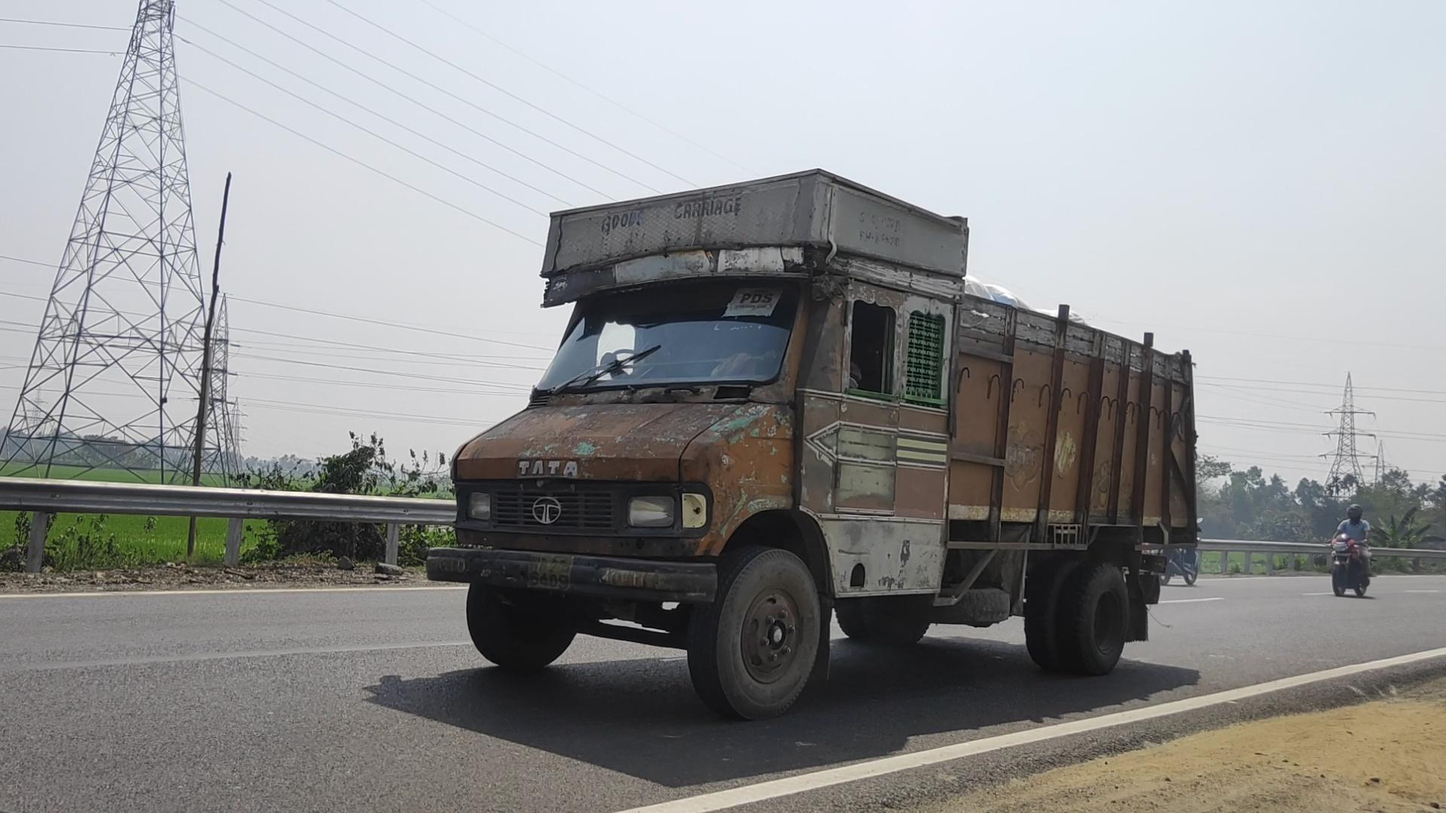bike: (1325, 504, 1377, 597)
truck: (427, 167, 1198, 722)
